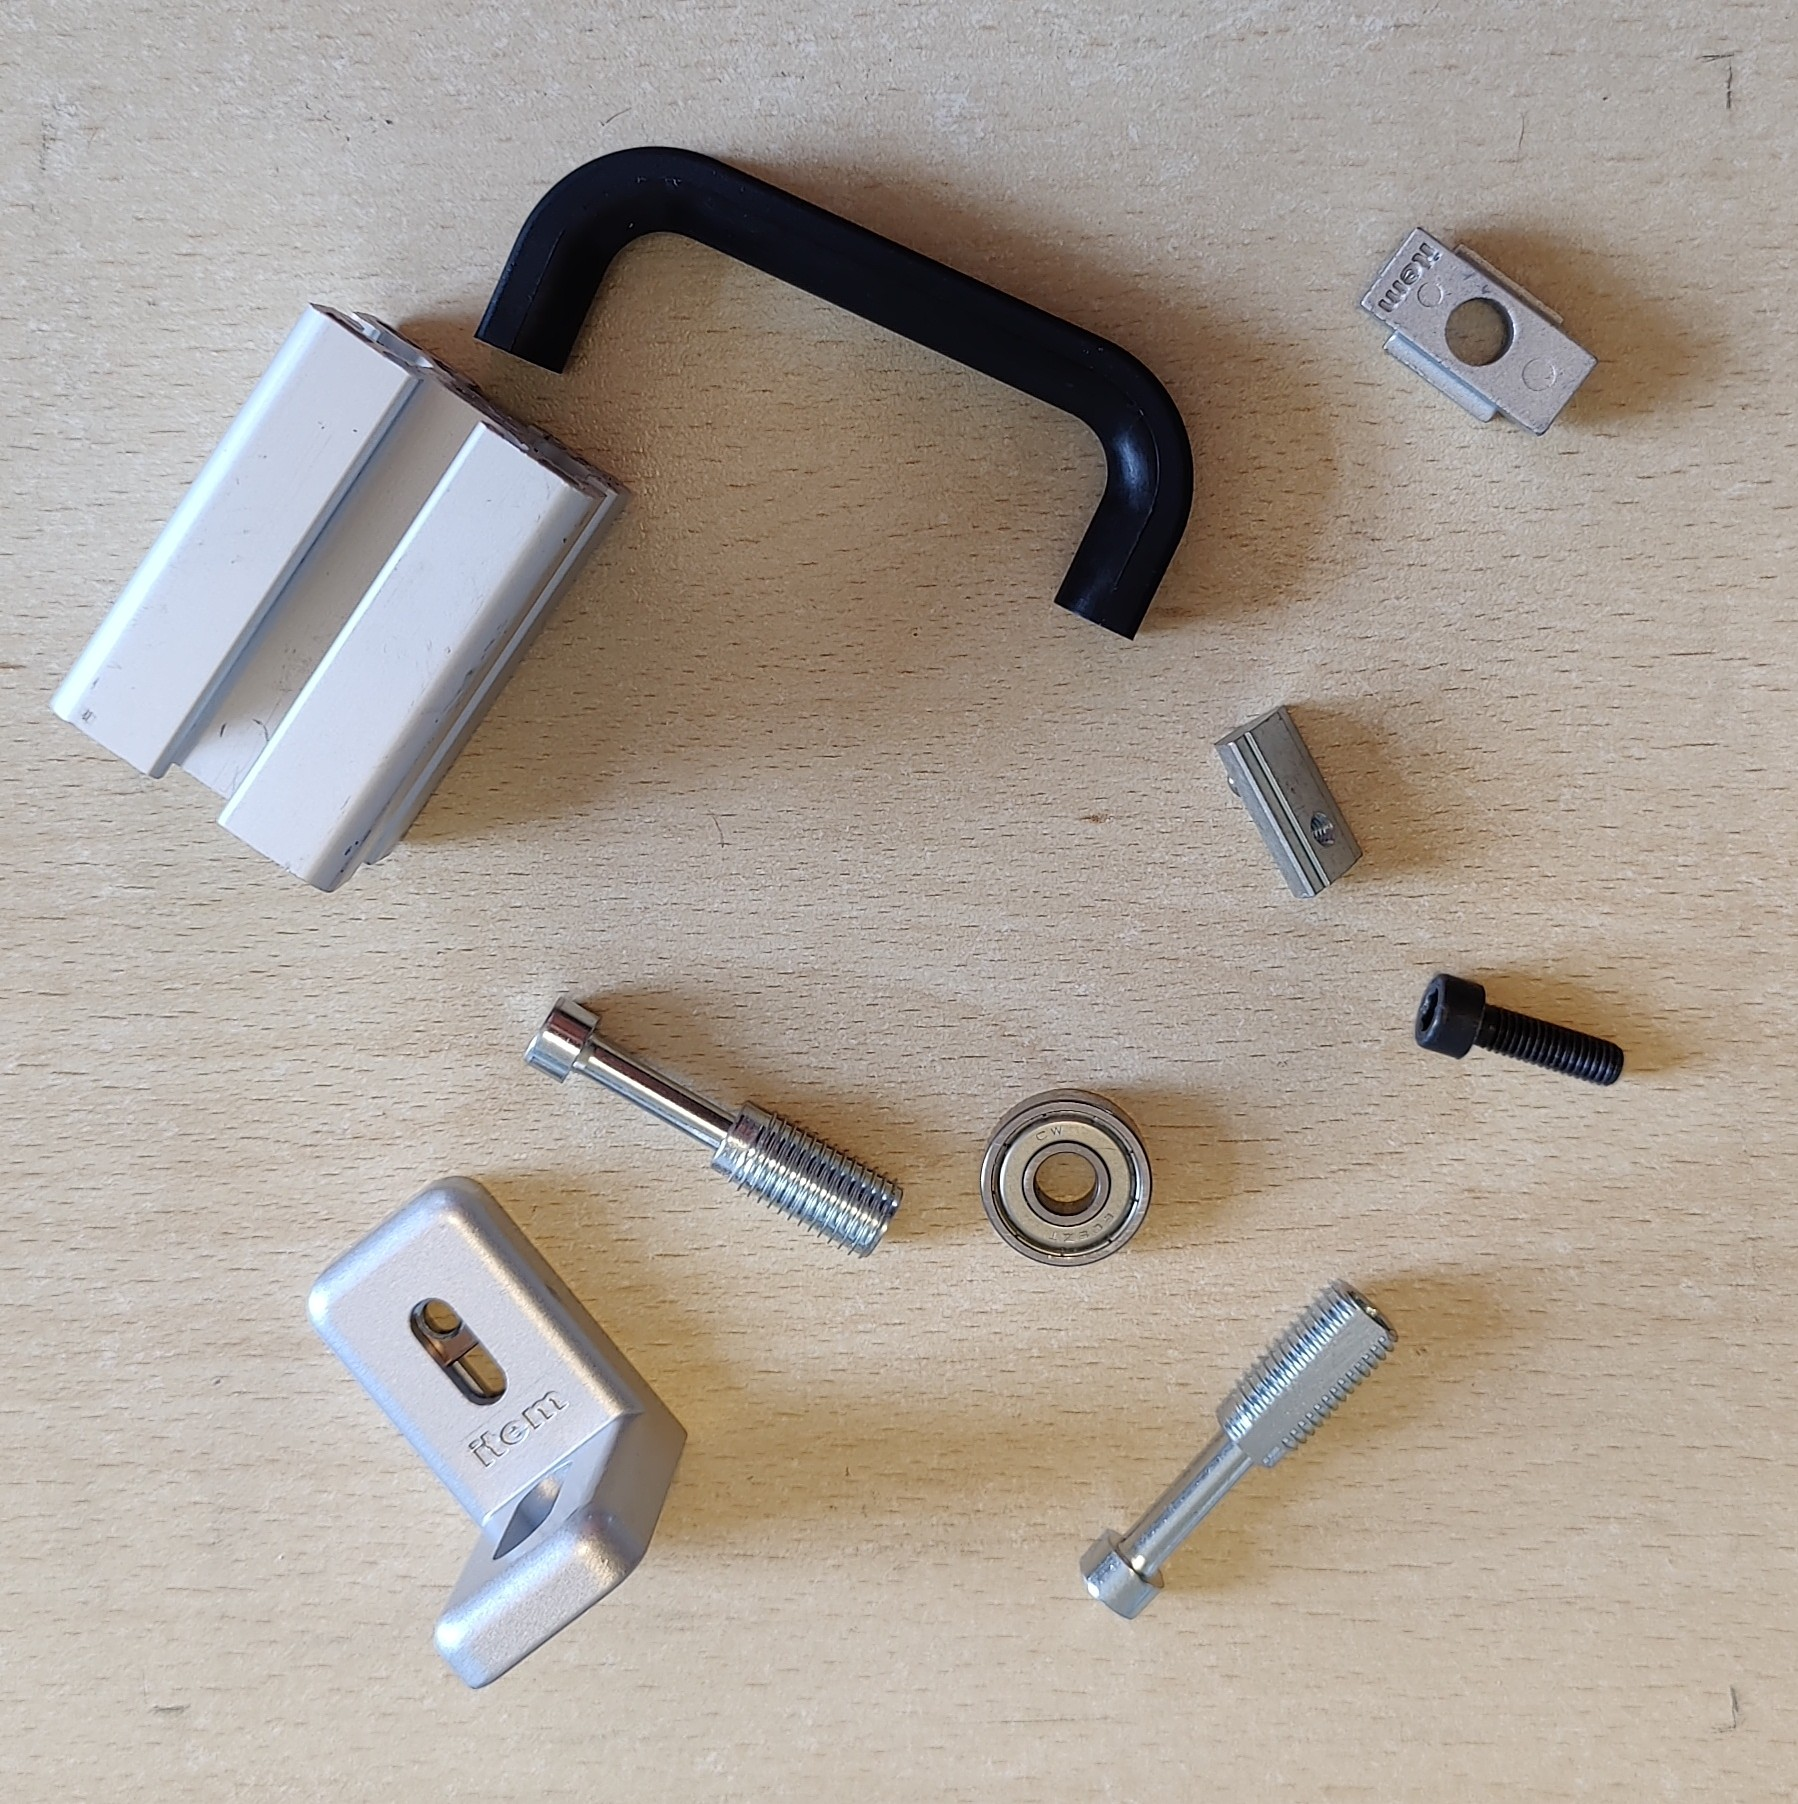Aluminium Extension: (48, 303, 636, 894)
Ball Bearing: (978, 1090, 1156, 1267)
Multiwinkel: (306, 1174, 688, 1694)
Pull Handle: (473, 143, 1195, 642)
Shoulder Socket Head Cap Screw: (1078, 1274, 1400, 1620), (519, 993, 906, 1262)
Socket Head Cap Screw: (1411, 971, 1627, 1090)
T Nut Square: (1353, 222, 1600, 438)
T Spring Nut: (1210, 700, 1363, 900)
